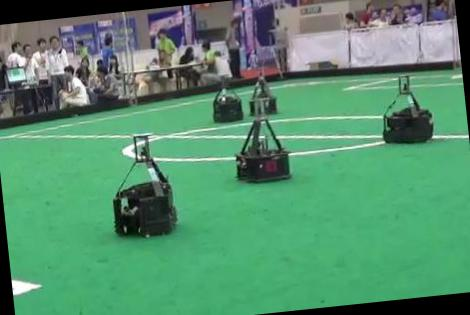robot: (113, 133, 177, 236), (237, 95, 290, 181), (383, 74, 433, 141), (213, 75, 244, 122), (250, 75, 277, 114)
